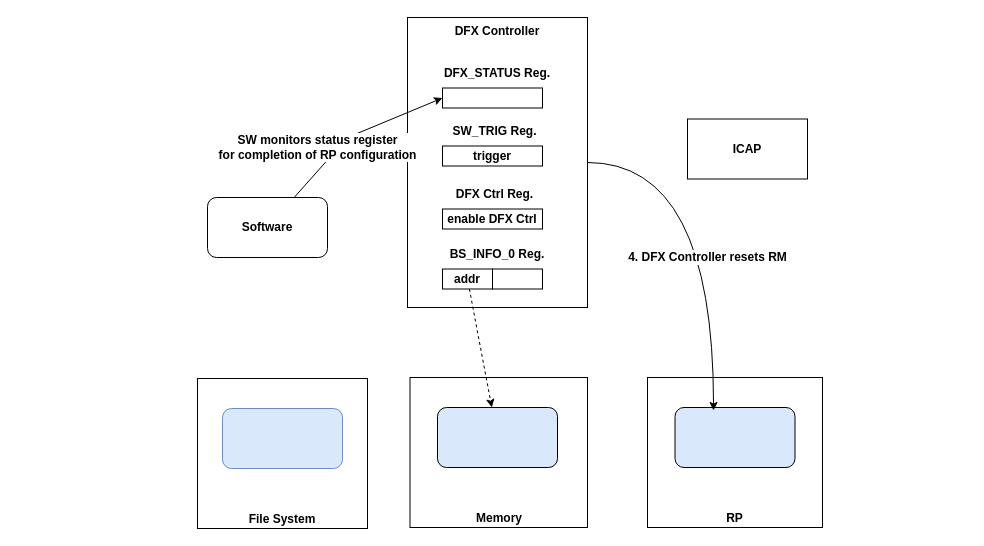
The diagram is 984 pixels wide and 546 high, and some of its shapes have lost their labels. Each missing label, with the centre of its shape:
RM: the point at 734,437
RM Partial Bitstream File: the point at 282,438
RM Partial Bitstream Memory Buffer: the point at 497,437
size: the point at 517,278
status: the point at 492,97
